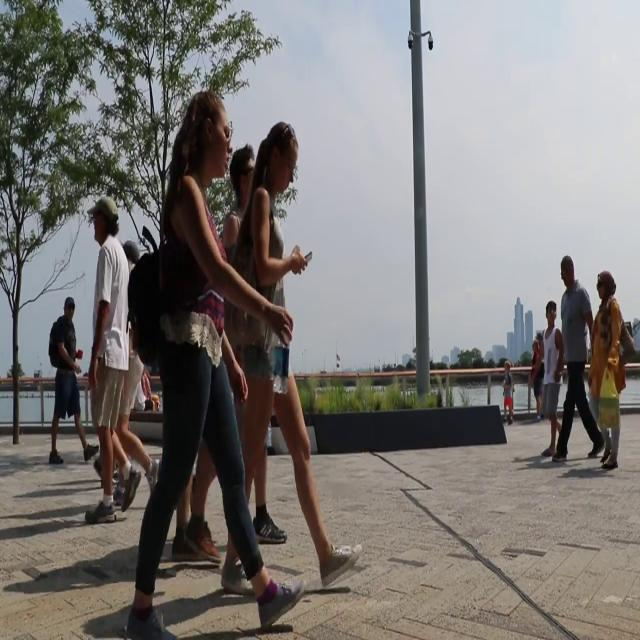normal: (132, 84, 300, 634), (43, 290, 97, 466), (591, 274, 629, 484), (537, 299, 566, 469)
